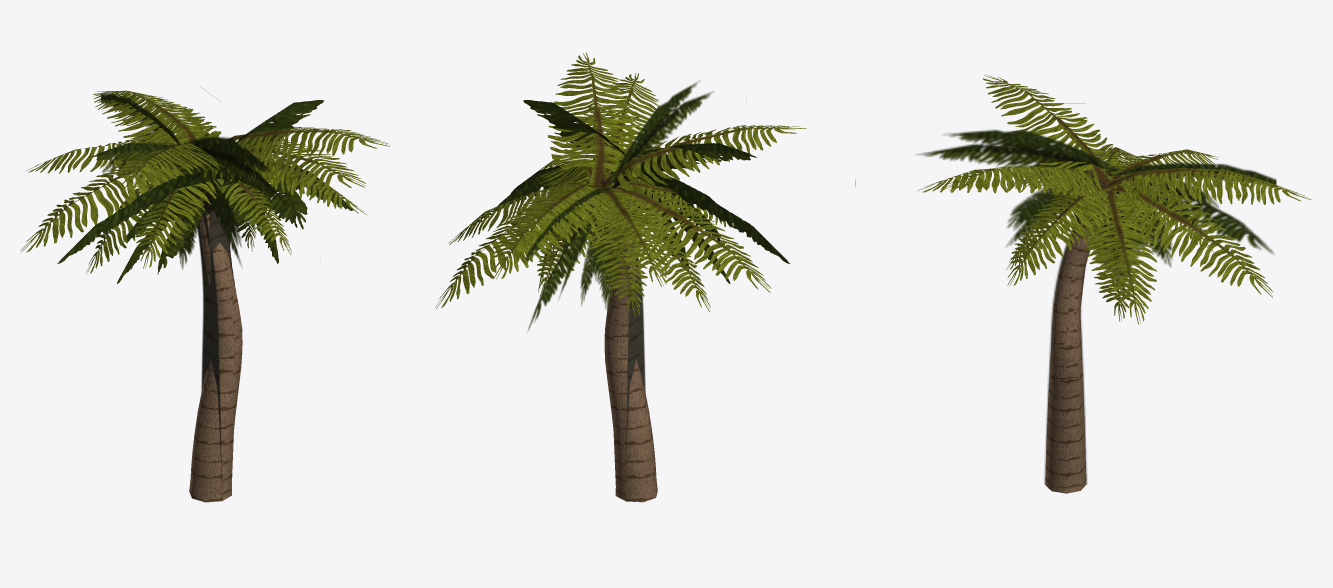
Rendered from palm.gltf.
3 views of the same model, side by side, from view 1: azimuth 30°, elevation 25°; view 2: azimuth 150°, elevation 25°; view 3: azimuth 270°, elevation 25° (orthographic). The views are drawn at different scales.
Parts seen in each view (by area): view 1: HighRes, 2D, LowRes; view 2: HighRes, 2D, LowRes; view 3: HighRes, 2D, LowRes.
Part boxes in pixels (x1,y1,x2,y2): HighRes: (20, 90, 397, 500); 2D: (57, 93, 353, 499); LowRes: (160, 128, 242, 502); HighRes: (435, 53, 806, 500); 2D: (496, 81, 790, 500); LowRes: (571, 148, 657, 502); HighRes: (917, 74, 1311, 493); 2D: (855, 103, 1276, 484); LowRes: (1045, 151, 1142, 485).
Size of what is drawn, in the model's own units: 46.8 by 46.8 by 51.5.
Materials: 5 (5 with a texture image).
